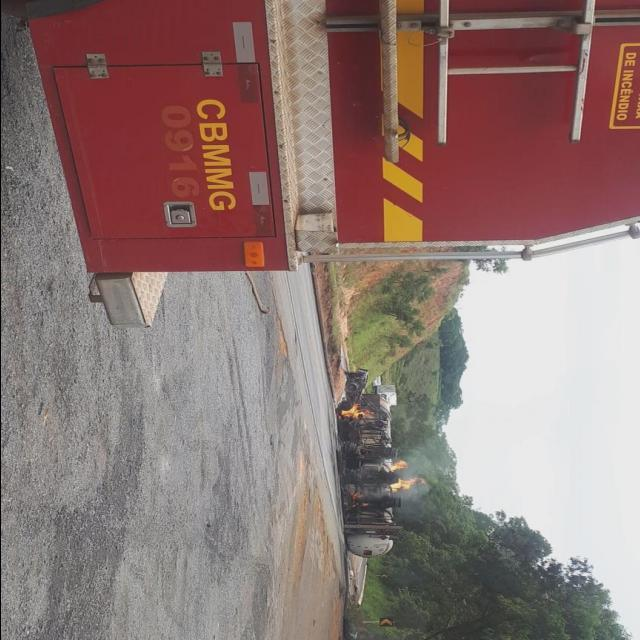Fire: (389, 475, 424, 493), (340, 401, 370, 421), (391, 459, 408, 474)
